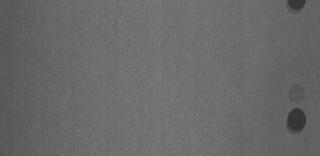oil spot: (280, 108, 310, 134), (284, 82, 310, 104), (280, 0, 310, 16)
